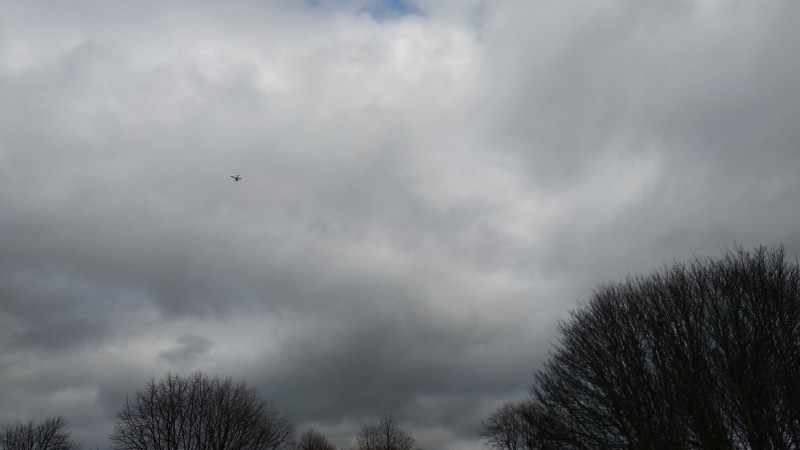drone: (229, 174, 242, 182)
